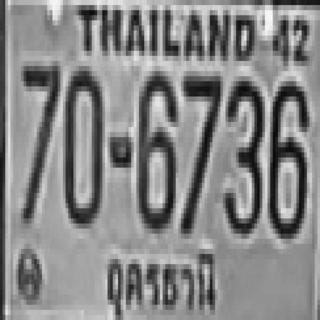N00: (63, 66, 102, 229)
N03: (223, 74, 266, 236)
N06: (136, 66, 178, 233), (268, 76, 309, 241)
N07: (180, 71, 219, 228), (21, 61, 58, 218)
P73: (101, 246, 220, 320)
